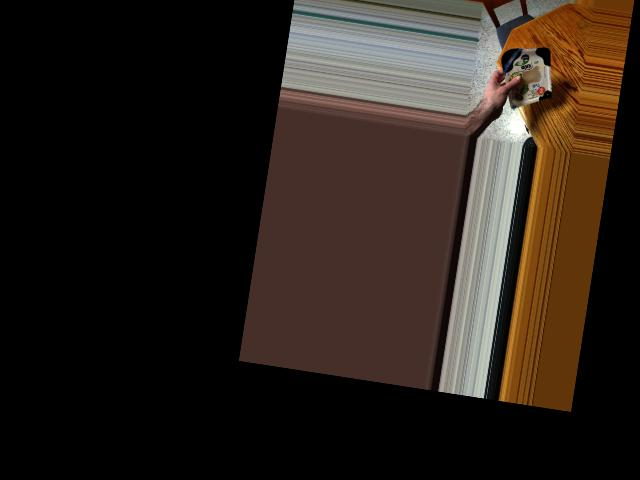cheese: (497, 43, 556, 103)
